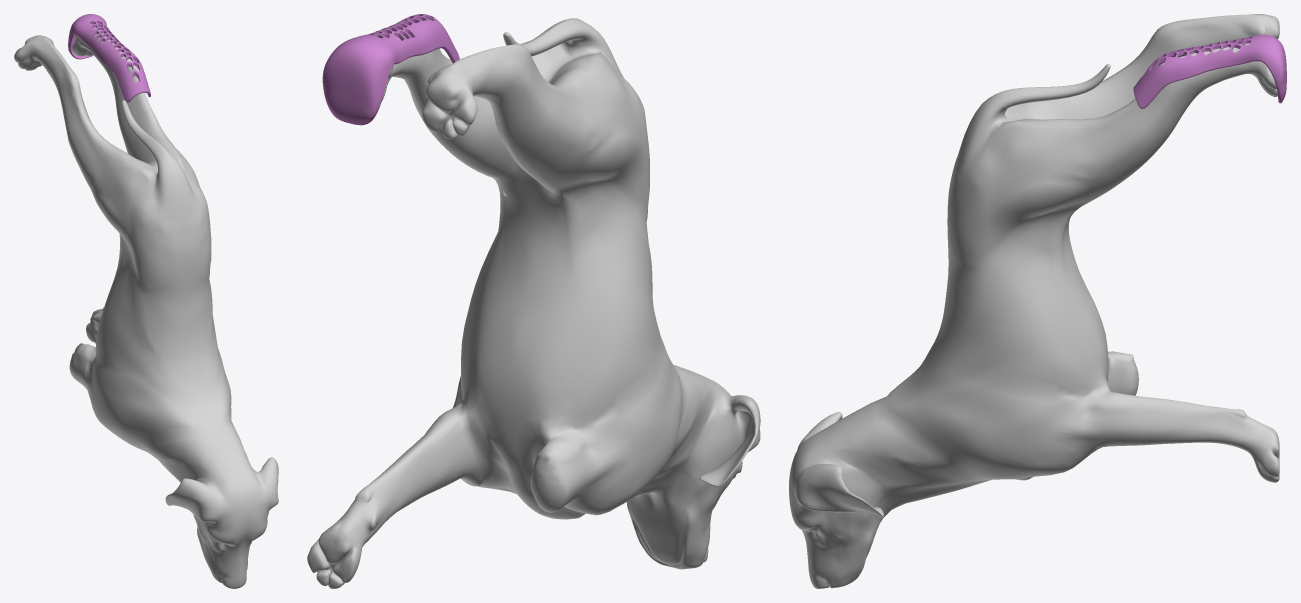
Rendered from Ferula Perro.glb.
The picture shows the model from 3 angles, left to right: view 1: azimuth 30°, elevation 25°; view 2: azimuth 150°, elevation 25°; view 3: azimuth 270°, elevation 25°; orthographic projection. The views are drawn at different scales.
Parts seen in each view (by area): view 1: Pata_Trasera_Doberman; view 2: Pata_Trasera_Doberman; view 3: Pata_Trasera_Doberman.
Boxes of the visible parts, bbox=[...] form: Pata_Trasera_Doberman: bbox=[14, 14, 278, 588]; Pata_Trasera_Doberman: bbox=[307, 14, 760, 588]; Pata_Trasera_Doberman: bbox=[789, 14, 1286, 588].
Bounding box in the file's own units: 26.3 × 97.36 × 77.69.
